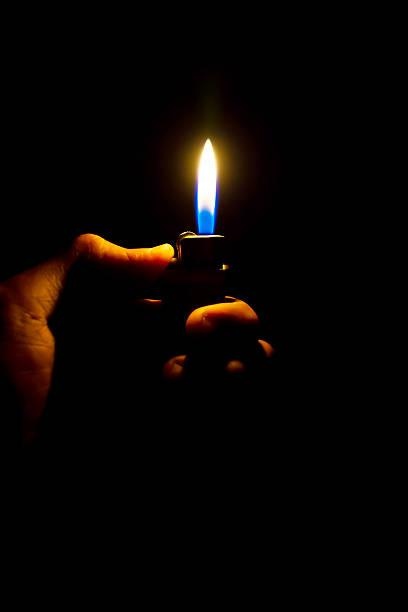Fire: (186, 130, 220, 237)
